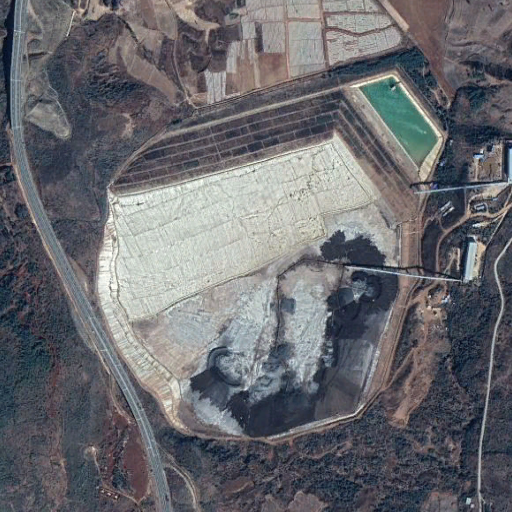tp: (98, 91, 414, 438)
